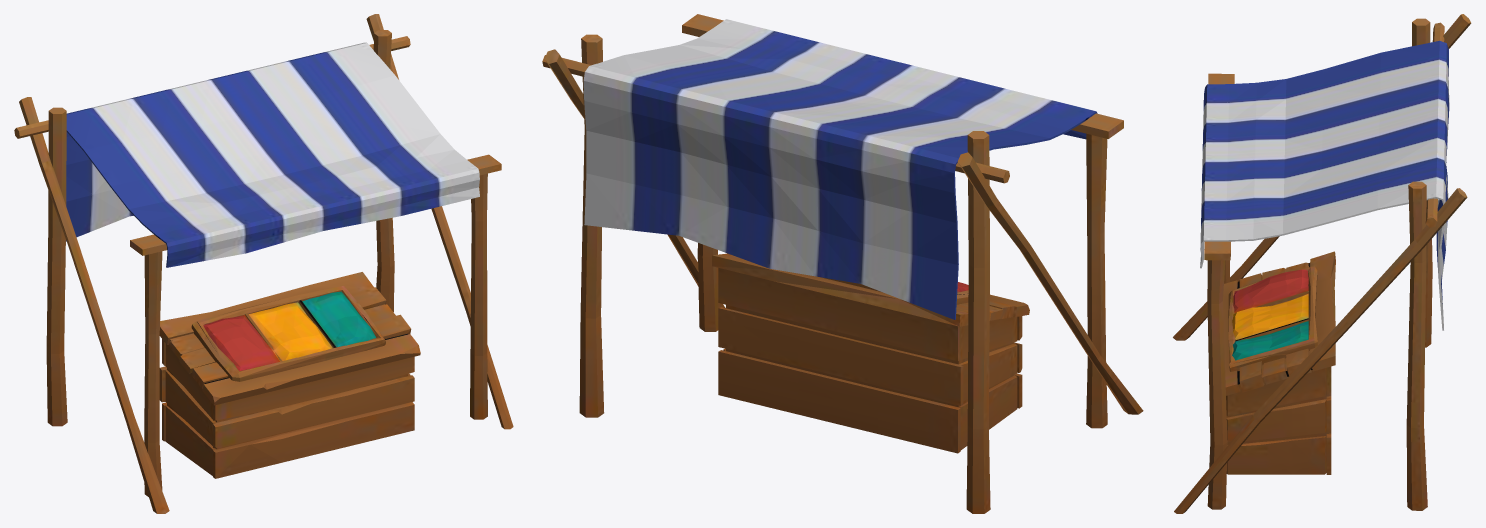
File: stall_counter_blue.glb
3 renders of one model, left to right at view 1: azimuth 30°, elevation 25°; view 2: azimuth 150°, elevation 25°; view 3: azimuth 270°, elevation 25°, orthographic. The views are drawn at different scales.
Visible parts, largest first — view 1: stall_counter_blue; view 2: stall_counter_blue; view 3: stall_counter_blue.
Part boxes in pixels (box(x1,y1,x2,y2)): stall_counter_blue: box(14, 14, 513, 513); stall_counter_blue: box(542, 14, 1143, 513); stall_counter_blue: box(1173, 14, 1471, 513).
Bounding box in the file's own units: 3.51 × 2.72 × 2.28.
Materials: 1 (1 with a texture image).
